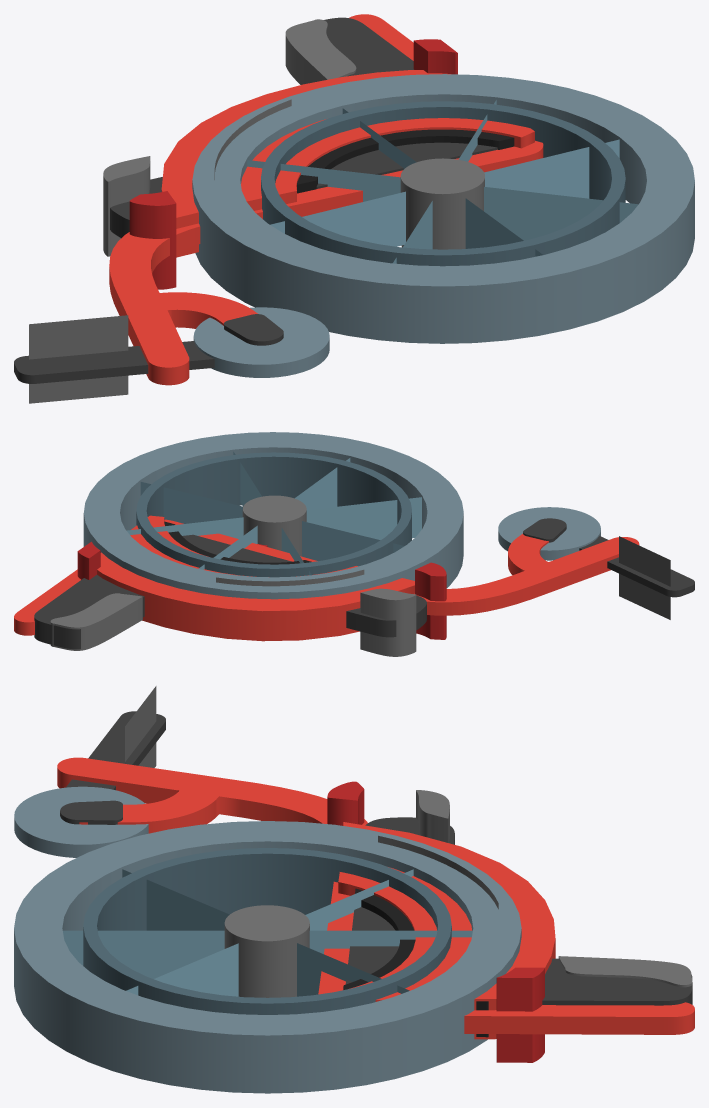
The model's file is emoji_u1f9bd.glb.
3 views of the same model, one above another, from view 1: azimuth 30°, elevation 25°; view 2: azimuth 150°, elevation 25°; view 3: azimuth 270°, elevation 25° (orthographic). The views are drawn at different scales.
Parts seen in each view (by area): view 1: emoji_u1f9bd; view 2: emoji_u1f9bd; view 3: emoji_u1f9bd.
Boxes of the visible parts, box(x1,y1,x2,y2) form: emoji_u1f9bd: box(14, 14, 694, 403); emoji_u1f9bd: box(14, 432, 694, 656); emoji_u1f9bd: box(14, 686, 694, 1093).
Size of the model in its own units: 0.0335 by 0.0038 by 0.0277.
